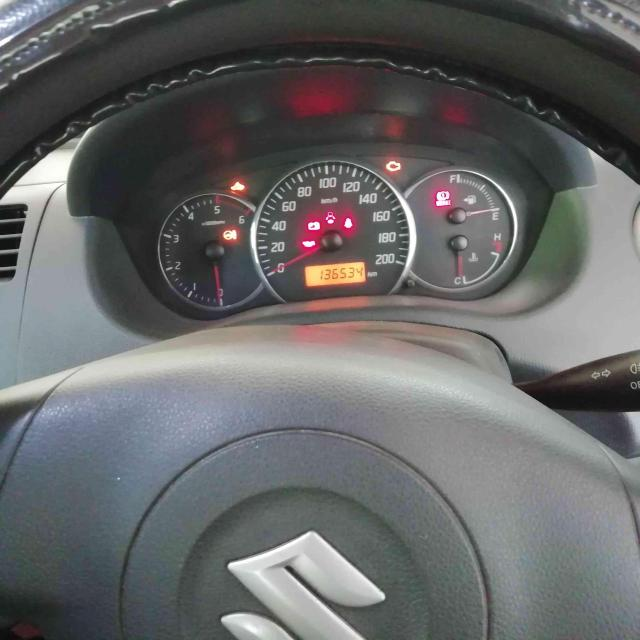Braking System Issue: (436, 190, 452, 207)
Charging System Issue: (307, 221, 321, 231)
Check Engine: (386, 160, 402, 172)
